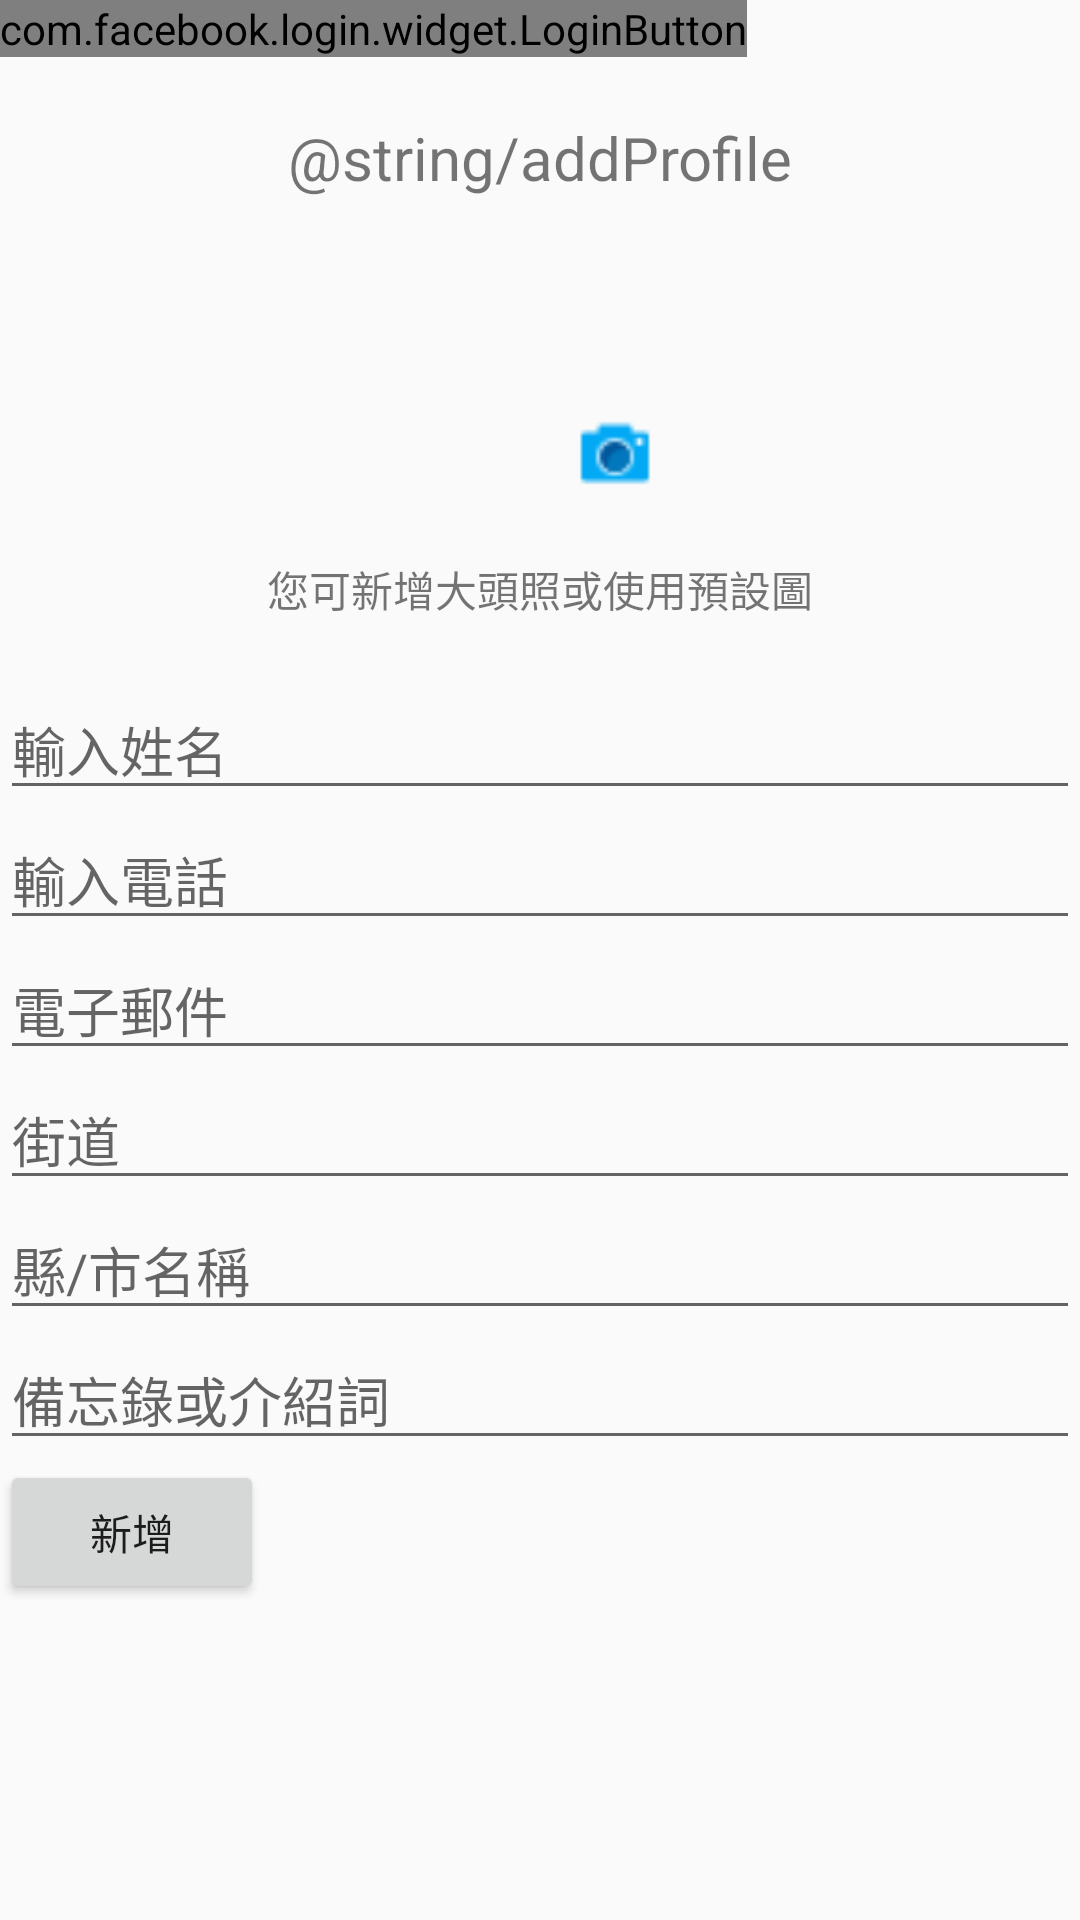

Named icons in this screenshot (1080x1920) and their bounding boxes, [x1,y1,x2,y2]:
camera: [580,422,650,484]
